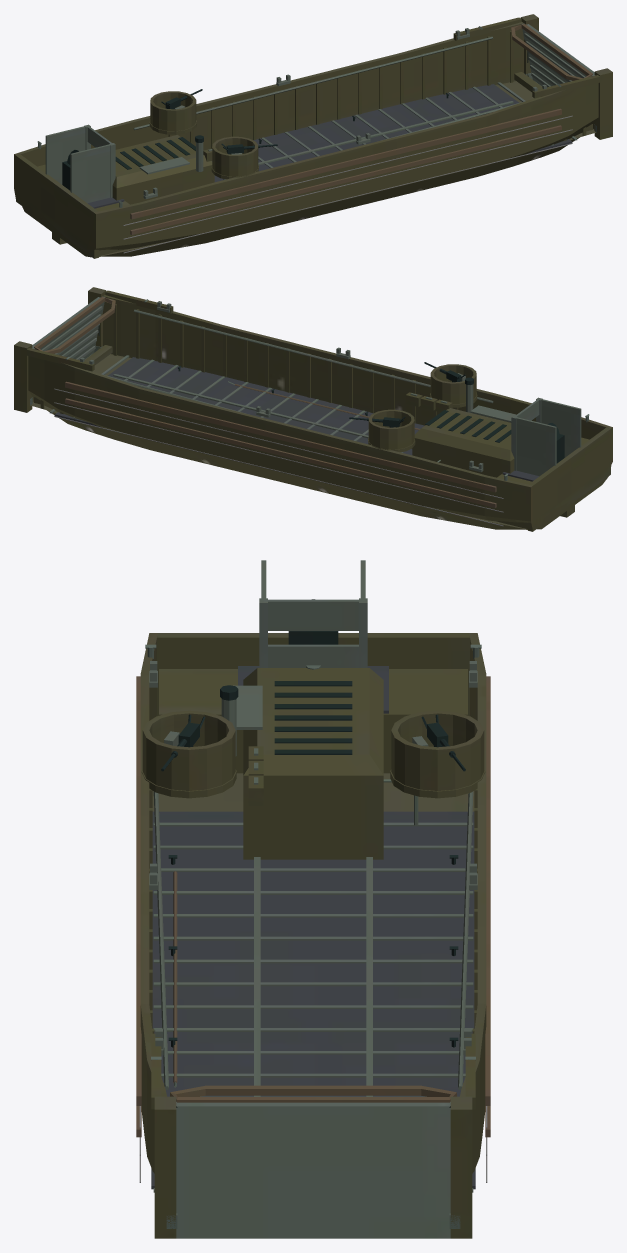
The model's file is lcvp.glb.
The picture shows the model from 3 angles, top to bottom: view 1: azimuth 30°, elevation 25°; view 2: azimuth 150°, elevation 25°; view 3: azimuth 270°, elevation 25°; orthographic projection. The views are drawn at different scales.
Parts seen in each view (by area): view 1: Hull, lcvp_dark, Ramp, Nose; view 2: Hull, lcvp_dark, Ramp, Nose; view 3: lcvp_dark, Hull, Ramp, Nose.
Part boxes in pixels (x1,y1,x2,y2): Hull: [14, 22, 598, 258]; lcvp_dark: [37, 17, 600, 253]; Ramp: [521, 23, 594, 87]; Nose: [520, 14, 612, 139]; Hull: [28, 295, 612, 531]; lcvp_dark: [26, 290, 589, 526]; Ramp: [32, 296, 105, 360]; Nose: [14, 287, 106, 412]; lcvp_dark: [136, 560, 490, 1228]; Hull: [140, 633, 486, 1173]; Ramp: [176, 1102, 450, 1238]; Nose: [154, 1096, 472, 1238].
Bounding box in the file's own units: 11.08 × 2.1 × 3.28.
1 material, 1 textured.
